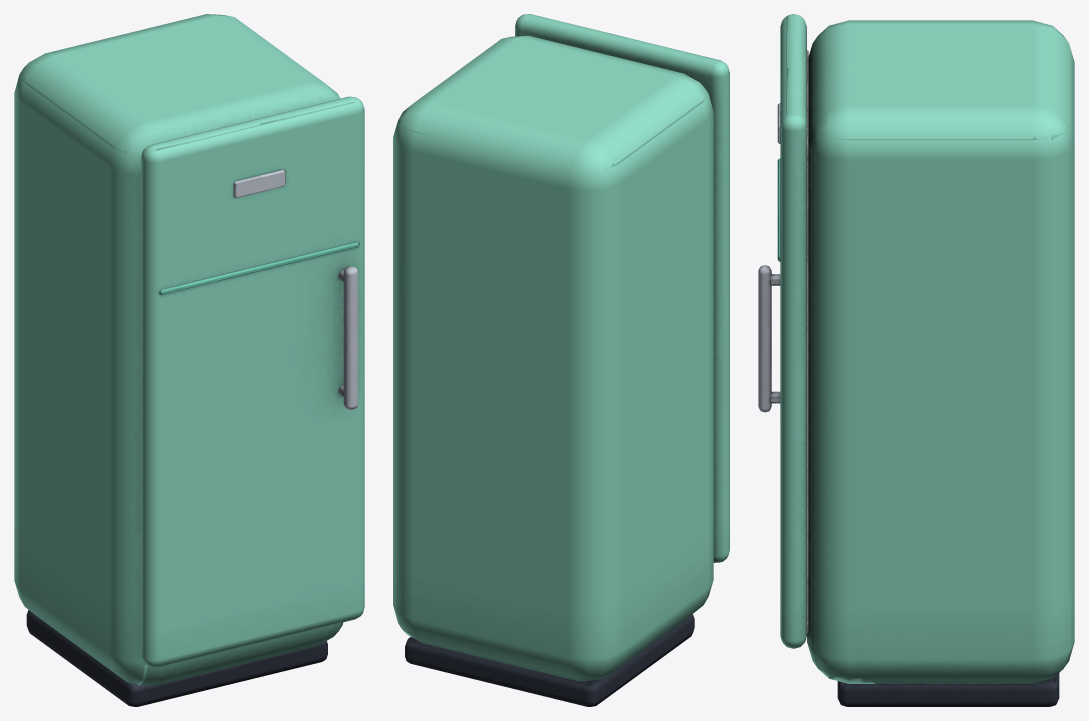
File: fridge.glb
3 renders of one model, left to right at view 1: azimuth 30°, elevation 25°; view 2: azimuth 150°, elevation 25°; view 3: azimuth 270°, elevation 25°, orthographic. The views are drawn at different scales.
Parts seen in each view (by area): view 1: Door, fridge; view 2: fridge, Door; view 3: fridge, Door.
Part boxes in pixels (<box>): Door: <box>141,96,364,667</box>; fridge: <box>14,14,343,706</box>; fridge: <box>393,35,713,706</box>; Door: <box>515,14,729,562</box>; fridge: <box>807,20,1074,706</box>; Door: <box>758,14,806,648</box>.
Bounding box in the file's own units: 0.72 × 1.72 × 0.8275.
Materials: 5 (5 with a texture image).
